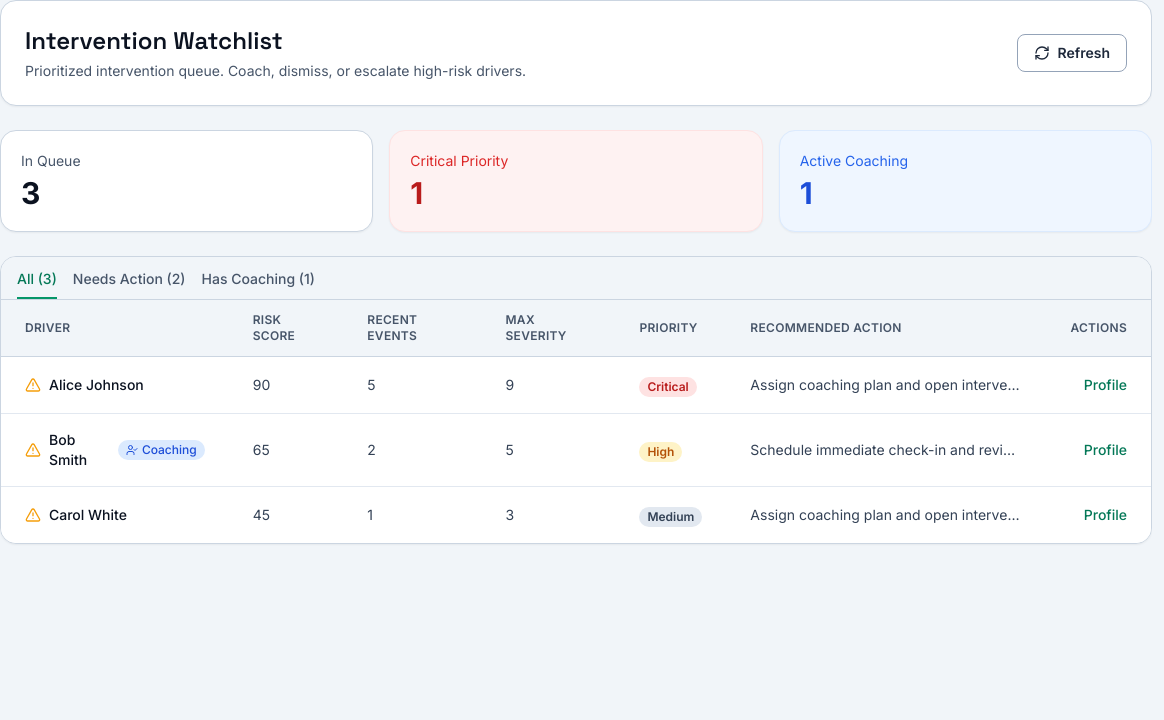
Test: Watchlist page › filter tab "Has Coaching" shows only coaching drivers
Check: the text "Alice Johnson" is shown, box [49,375,144,395]
Click the button "Has Coaching (1)" at [258, 284], box [202,269,315,299]
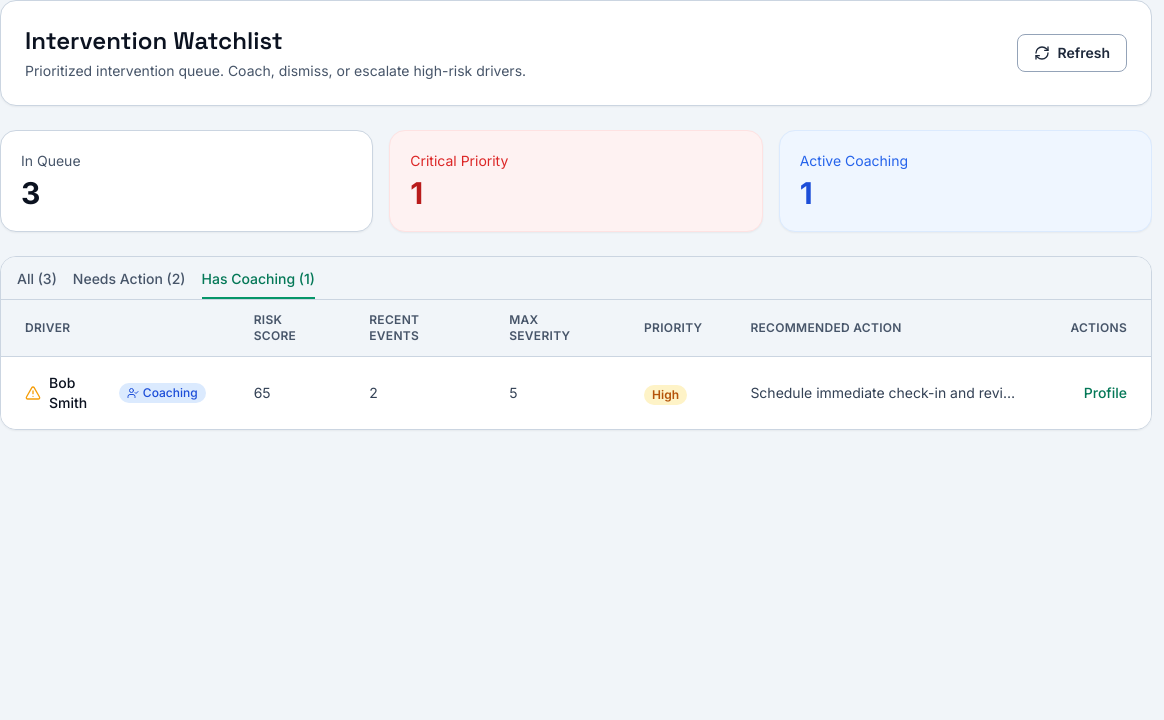
Check: the text "Bob Smith" is shown, box [49,374,87,411]
Check: the text "Alice Johnson" is gone
